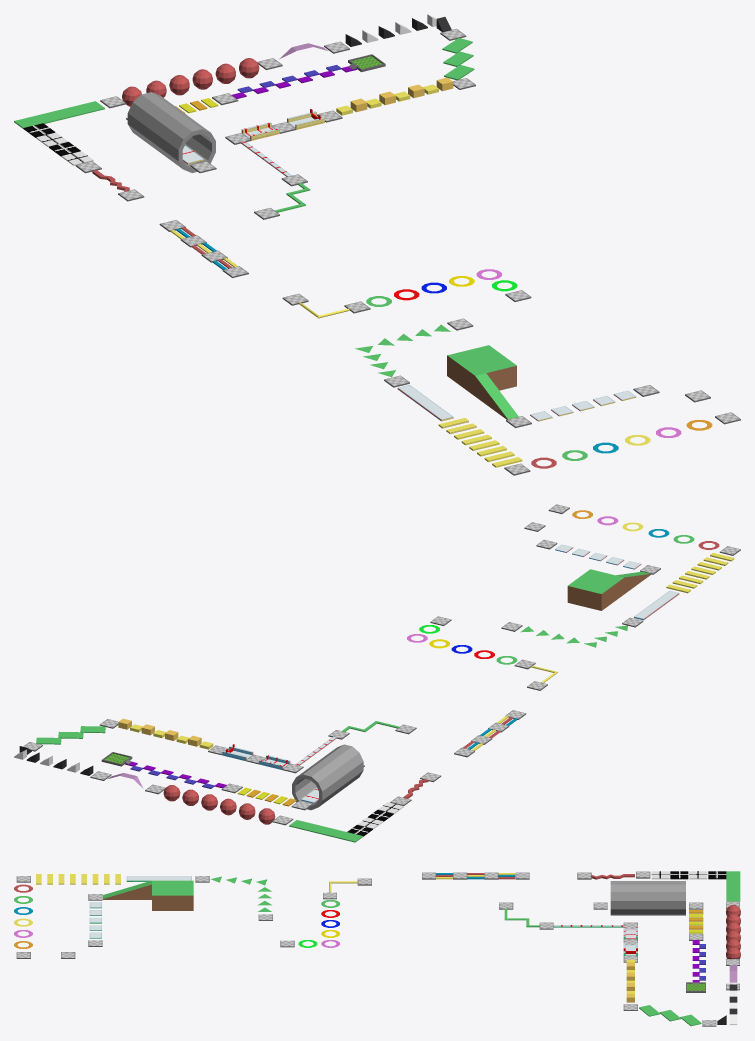
The model's file is obby2.glb.
3 renders of one model, top to bottom at view 1: azimuth 30°, elevation 25°; view 2: azimuth 150°, elevation 25°; view 3: azimuth 270°, elevation 25°, orthographic. The views are drawn at different scales.
Visible parts, largest first — view 1: object 1; view 2: object 1; view 3: object 1.
Boxes of the visible parts, x1,y1,x2,y2 form: object 1: (14,14,712,468); object 1: (14,510,734,842); object 1: (14,871,740,1026).
Bounding box in the file's own units: 21.5 × 2 × 42.72.
Materials: 3 (3 with a texture image).
